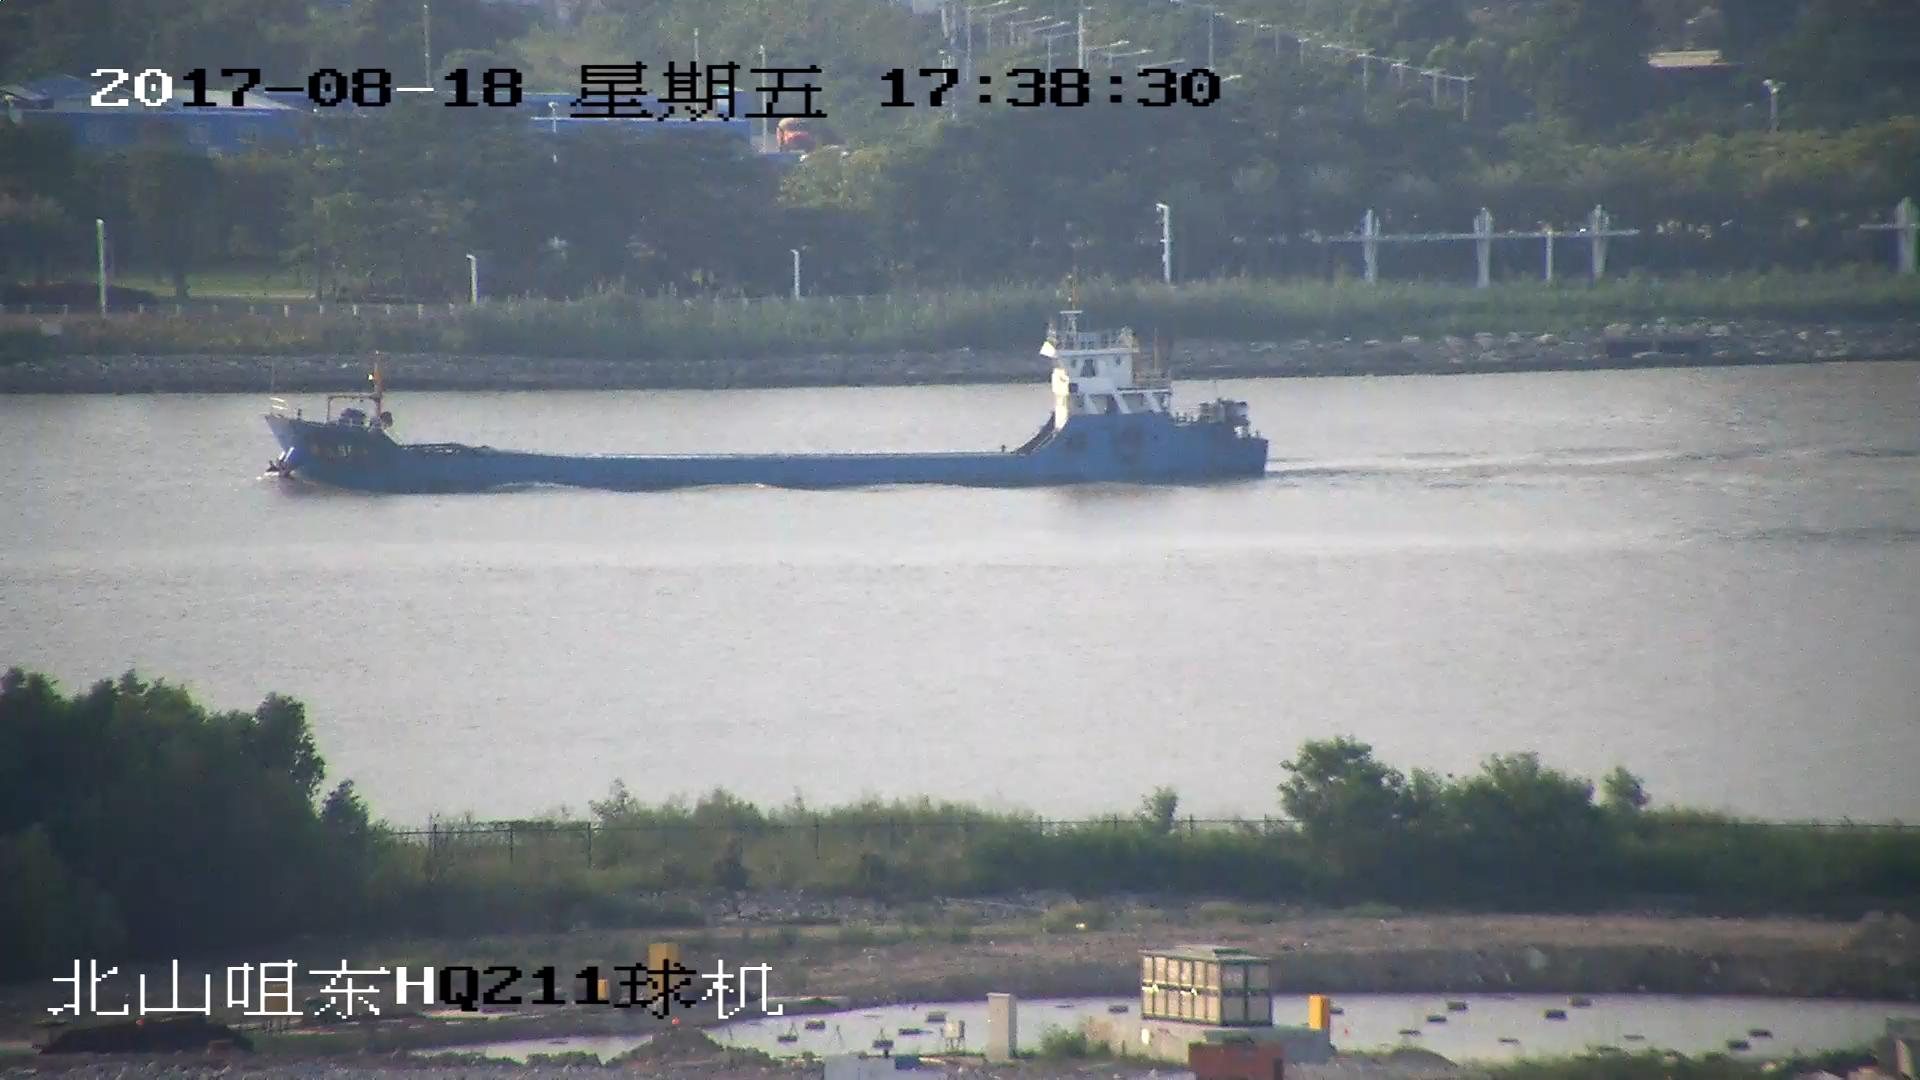general cargo ship: (268, 273, 1268, 489)
